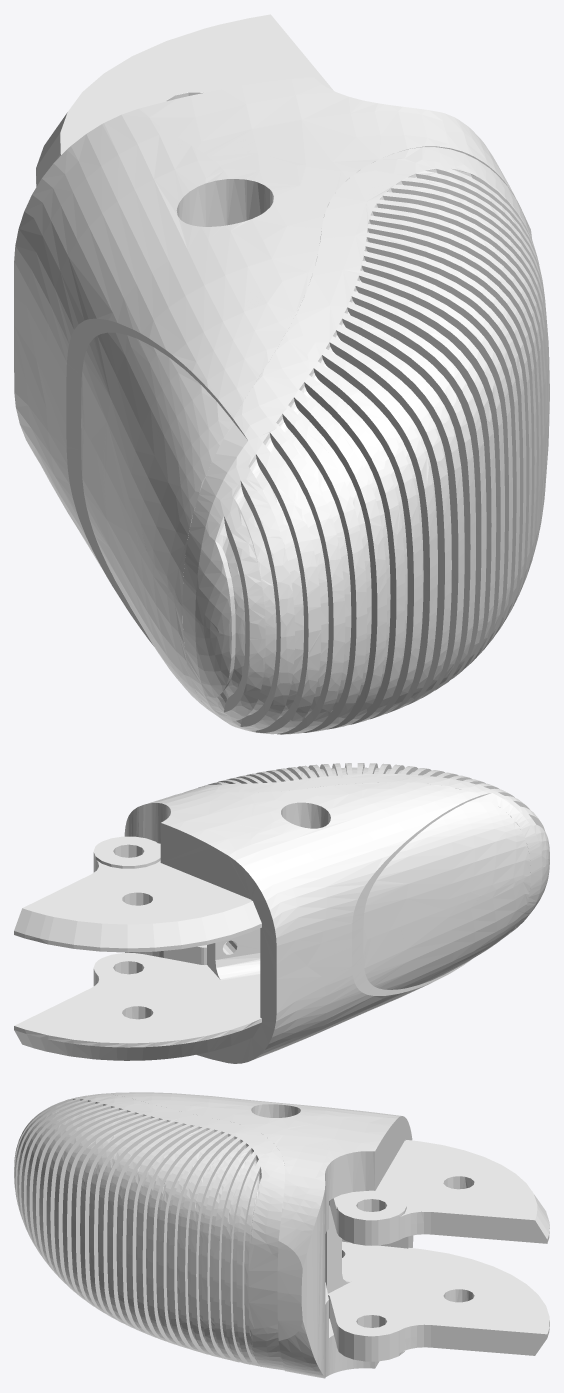
Rendered from rh_pinky_distal_vis.obj.
3 views of the same model, one above another, from view 1: azimuth 30°, elevation 25°; view 2: azimuth 150°, elevation 25°; view 3: azimuth 270°, elevation 25° (orthographic). The views are drawn at different scales.
Visible parts, largest first — view 1: rh_pinky_distal; view 2: rh_pinky_distal; view 3: rh_pinky_distal.
Part boxes in pixels (left/top/right/bottom): rh_pinky_distal: left=14, top=14, right=549, bottom=734; rh_pinky_distal: left=14, top=763, right=549, bottom=1063; rh_pinky_distal: left=14, top=1092, right=549, bottom=1378.
Size of the model in its own units: 0.0217 by 0.0154 by 0.0344.
1 material, 1 textured.
